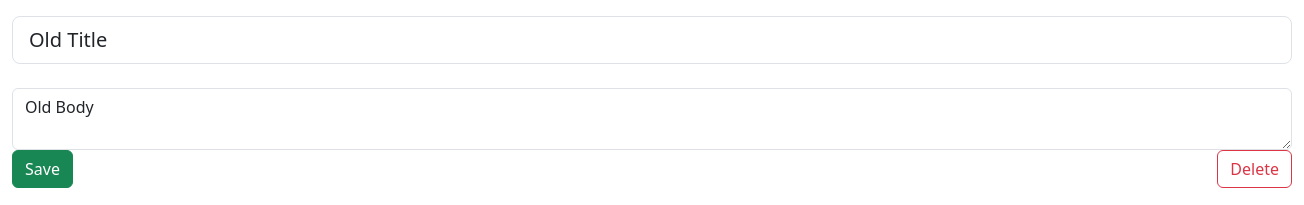
Scenario: EditPostPage — Save button state › is disabled when the body is cleared
Clear the text box showing "Old Body": [652, 119] box 12,88 -> 1292,150
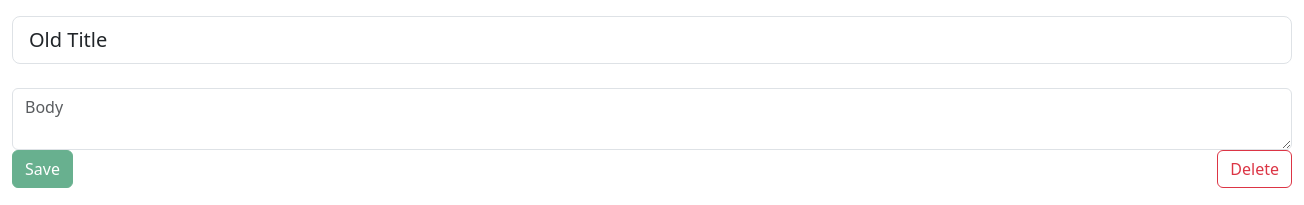
Check: the button "Save" is disabled, box 12,150 -> 73,188
